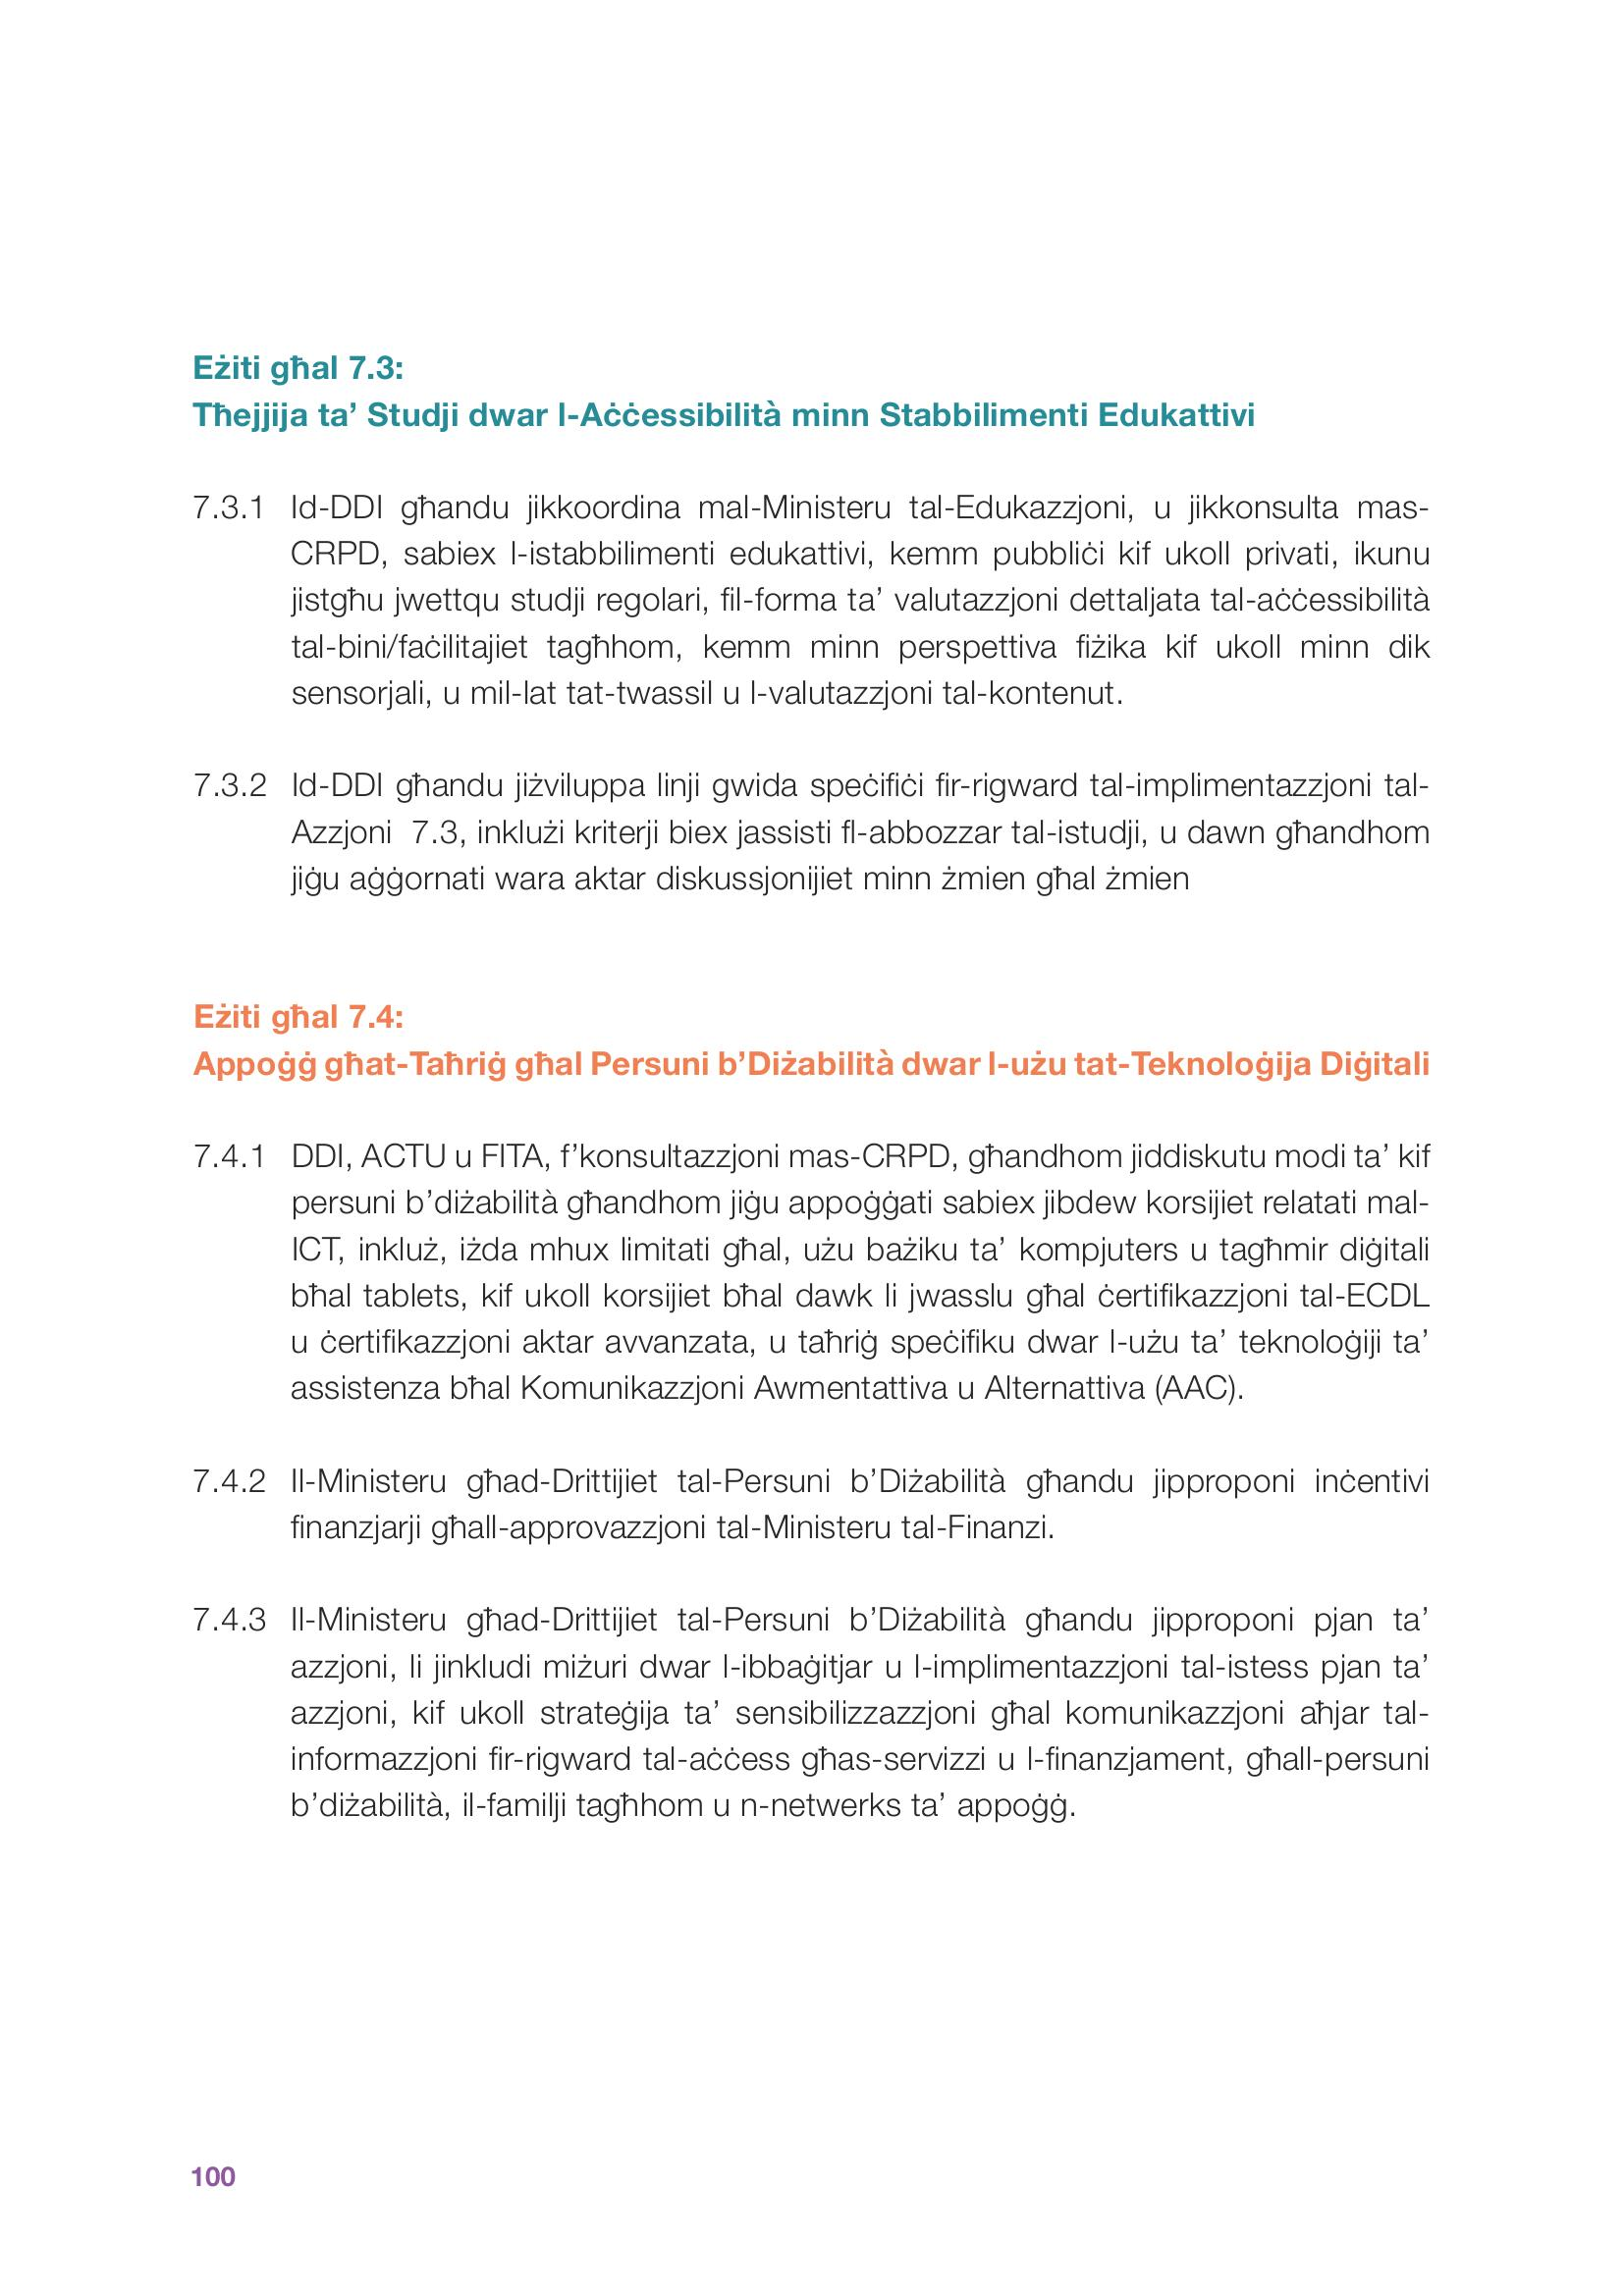text: (148, 329, 1476, 1852)
